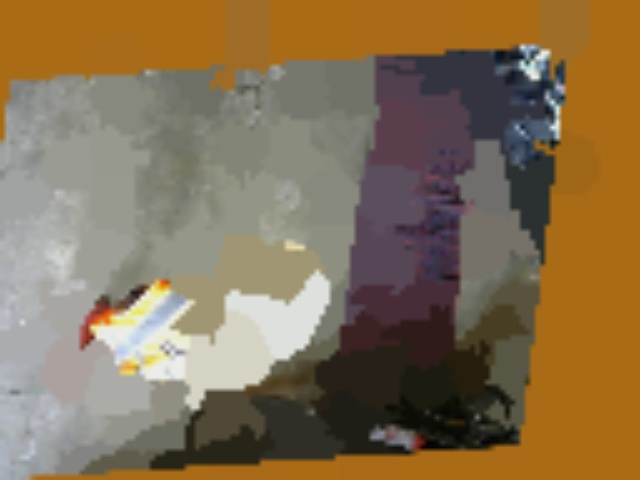eight: (264, 315, 314, 352)
